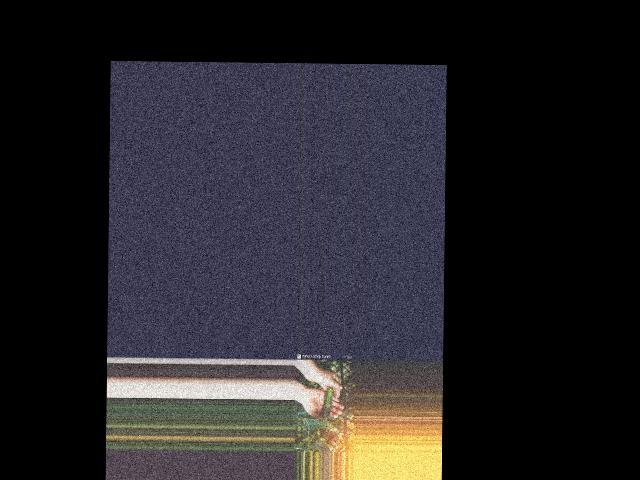cucumber: (321, 387, 333, 417)
